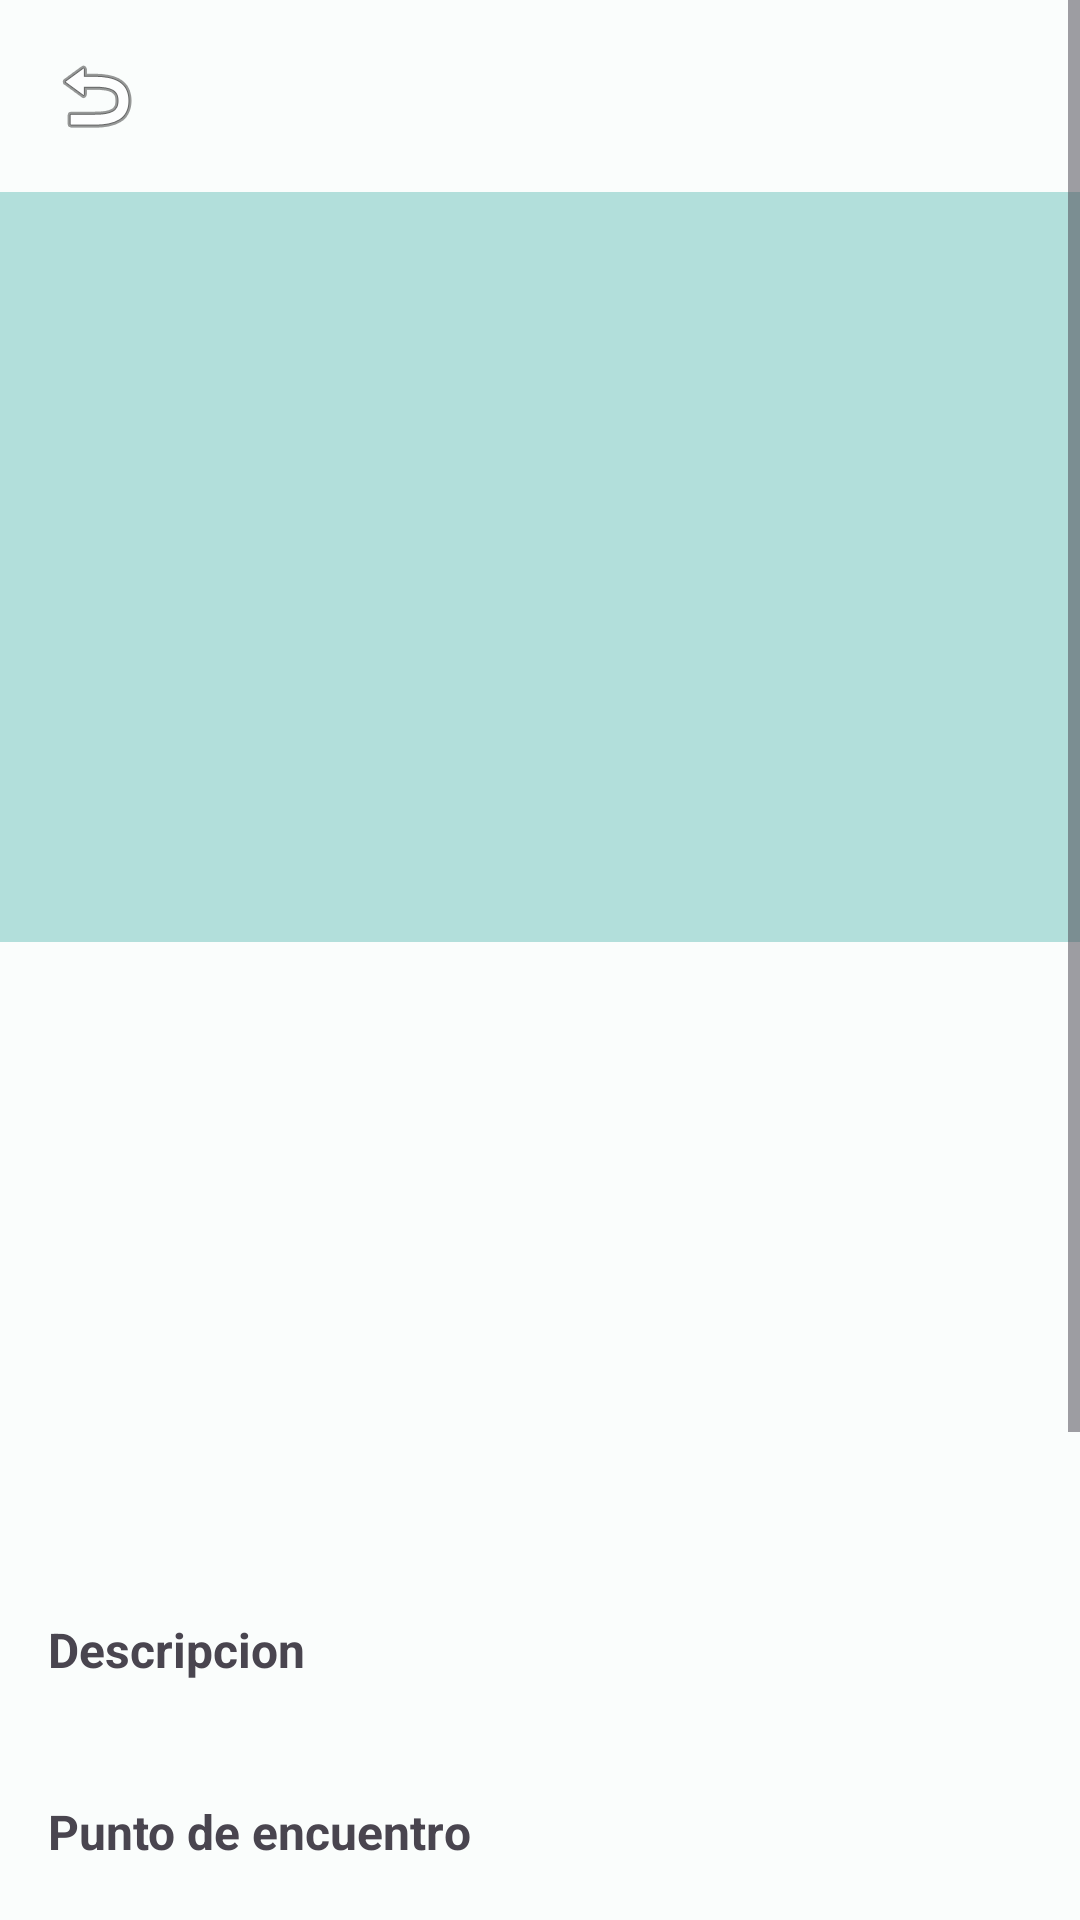

Icons on this 1080 x 1920 Android screen, each with the point to tap as [x,y]:
Volver: [97,96]
